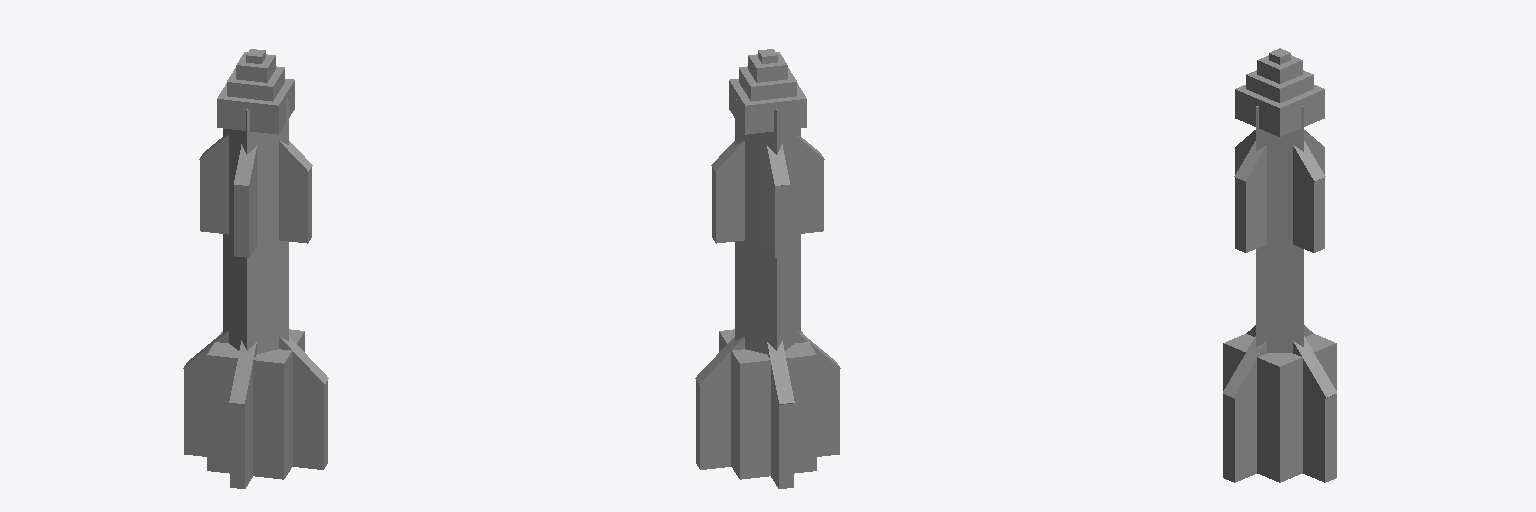
File: missile_condensed.obj
3 renders of one model, left to right at view 1: azimuth 30°, elevation 25°; view 2: azimuth 150°, elevation 25°; view 3: azimuth 270°, elevation 25°, orthographic.
Parts seen in each view (by area): view 1: MAIN_MISSILE_MODULE, PROPULSOR_MODULE, WING_B_B_1, WING_T_B_2, WARHEAD_1, WING_T_B_1, WING_B_A_1, WING_T_A_2, WING_B_B_2, WARHEAD_2, WARHEAD_3, WING_B_A_2 (+1 smaller); view 2: MAIN_MISSILE_MODULE, PROPULSOR_MODULE, WING_B_A_1, WING_T_A_2, WARHEAD_1, WING_T_A_1, WING_B_B_1, WING_T_B_2, WING_B_A_2, WARHEAD_2, WARHEAD_3, WING_B_B_2 (+1 smaller); view 3: MAIN_MISSILE_MODULE, PROPULSOR_MODULE, WING_B_B_1, WING_B_A_1, WARHEAD_1, WING_T_B_2, WING_T_A_2, WARHEAD_2, WING_B_A_2, WING_B_B_2, WARHEAD_3, WING_T_A_1 (+1 smaller).
Part boxes in pixels (bbox=[...]): MAIN_MISSILE_MODULE: bbox=[223, 99, 288, 353]; PROPULSOR_MODULE: bbox=[207, 329, 304, 479]; WING_B_B_1: bbox=[184, 367, 327, 469]; WING_T_B_2: bbox=[200, 161, 311, 243]; WARHEAD_1: bbox=[217, 79, 294, 134]; WING_T_B_1: bbox=[199, 135, 312, 195]; WING_B_A_1: bbox=[230, 391, 252, 488]; WING_T_A_2: bbox=[234, 174, 256, 257]; WING_B_B_2: bbox=[183, 331, 328, 384]; WARHEAD_2: bbox=[227, 66, 284, 101]; WARHEAD_3: bbox=[236, 49, 275, 82]; WING_B_A_2: bbox=[229, 340, 256, 404]; MAIN_MISSILE_MODULE: bbox=[735, 99, 800, 353]; PROPULSOR_MODULE: bbox=[719, 329, 816, 479]; WING_B_A_1: bbox=[696, 367, 839, 469]; WING_T_A_2: bbox=[712, 161, 823, 243]; WARHEAD_1: bbox=[729, 79, 806, 134]; WING_T_A_1: bbox=[711, 135, 824, 195]; WING_B_B_1: bbox=[771, 391, 793, 488]; WING_T_B_2: bbox=[767, 174, 789, 257]; WING_B_A_2: bbox=[695, 331, 840, 384]; WARHEAD_2: bbox=[739, 66, 796, 101]; WARHEAD_3: bbox=[748, 49, 787, 82]; WING_B_B_2: bbox=[767, 340, 794, 404]; MAIN_MISSILE_MODULE: bbox=[1256, 106, 1303, 352]; PROPULSOR_MODULE: bbox=[1223, 334, 1336, 482]; WING_B_B_1: bbox=[1223, 387, 1256, 482]; WING_B_A_1: bbox=[1303, 387, 1336, 482]; WARHEAD_1: bbox=[1235, 85, 1324, 136]; WING_T_B_2: bbox=[1235, 148, 1324, 252]; WING_T_A_2: bbox=[1235, 150, 1324, 252]; WARHEAD_2: bbox=[1246, 70, 1313, 102]; WING_B_A_2: bbox=[1246, 325, 1336, 398]; WING_B_B_2: bbox=[1223, 325, 1313, 398]; WARHEAD_3: bbox=[1257, 48, 1302, 83]; WING_T_A_1: bbox=[1235, 130, 1325, 181].
Bounding box in the file's own units: 0.9009 × 3.5 × 0.9009.